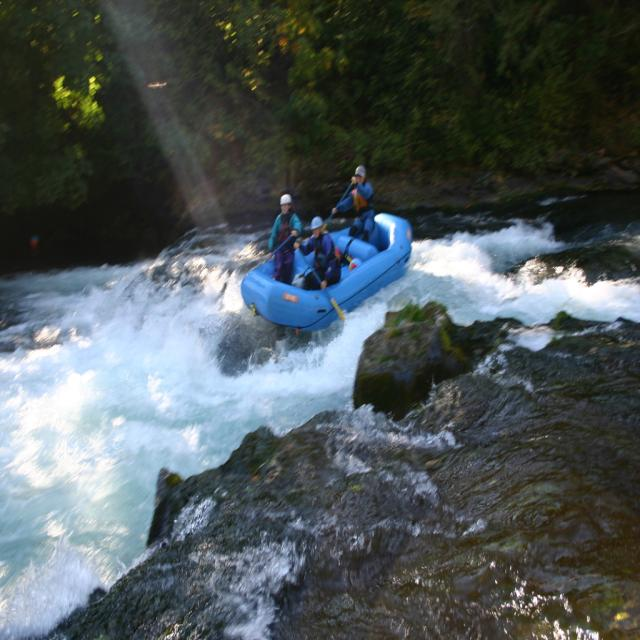Boat: (236, 204, 412, 336)
